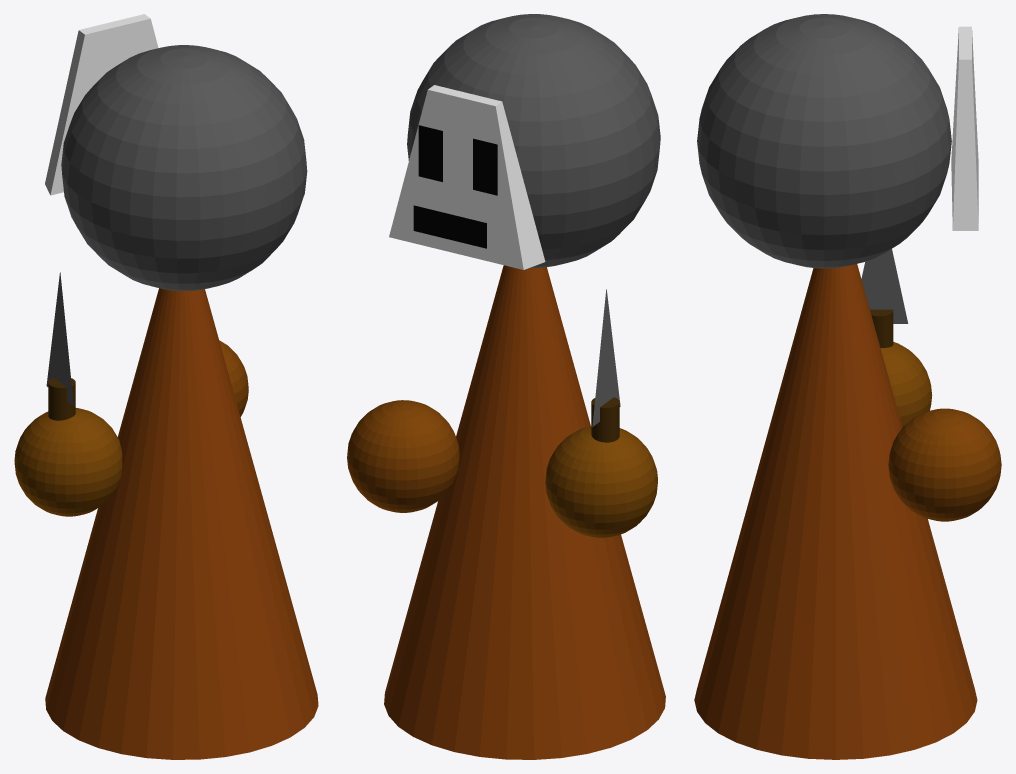
The model's file is Killer.fbx.
3 renders of one model, left to right at view 1: azimuth 30°, elevation 25°; view 2: azimuth 150°, elevation 25°; view 3: azimuth 270°, elevation 25°, orthographic. The views are drawn at different scales.
Parts seen in each view (by area): view 1: Cone, Sphere.005, Sphere.006, Cube, Plane, Sphere.001, Cylinder; view 2: Cone, Sphere.005, Cube, Sphere.001, Sphere.006, Plane.003, Plane, Plane.001, Plane.002, Cylinder; view 3: Cone, Sphere.005, Sphere.001, Cube, Sphere.006, Plane, Cylinder.
Part boxes in pixels (x1,y1,x2,y2): Cone: [45, 288, 318, 759]; Sphere.005: [61, 45, 307, 291]; Sphere.006: [14, 408, 122, 516]; Cube: [45, 14, 158, 195]; Plane: [46, 272, 73, 405]; Sphere.001: [219, 340, 248, 416]; Cylinder: [48, 378, 75, 420]; Cone: [384, 265, 665, 759]; Sphere.005: [407, 14, 660, 267]; Cube: [389, 85, 545, 269]; Sphere.001: [347, 400, 459, 512]; Sphere.006: [545, 426, 657, 537]; Plane.003: [413, 205, 486, 248]; Plane: [592, 289, 620, 426]; Plane.001: [418, 125, 442, 181]; Plane.002: [473, 138, 497, 195]; Cylinder: [591, 397, 619, 442]; Cone: [694, 264, 977, 759]; Sphere.005: [697, 14, 951, 268]; Sphere.001: [888, 408, 1001, 521]; Cube: [951, 26, 978, 230]; Sphere.006: [880, 342, 932, 427]; Plane: [861, 249, 908, 323]; Cylinder: [870, 309, 893, 347].
Bounding box in the file's own units: 219 × 524 × 217.
